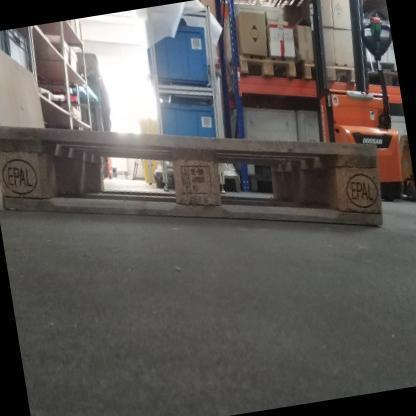pallet: (2, 126, 381, 231)
